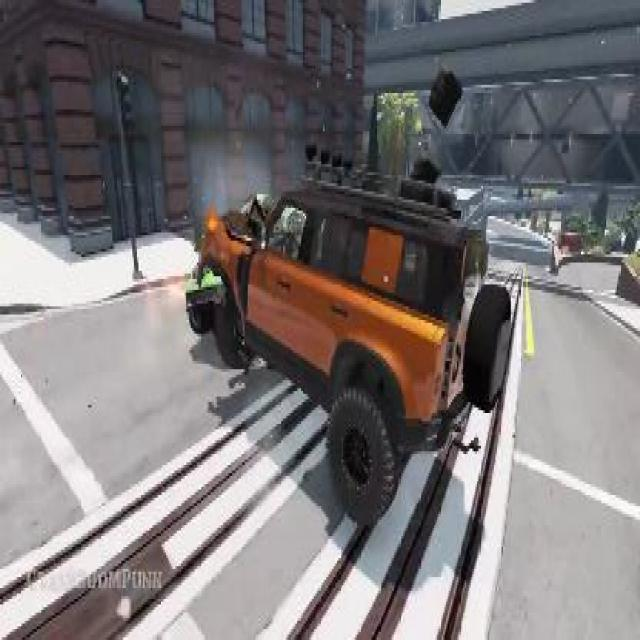accident: (180, 153, 517, 503)
